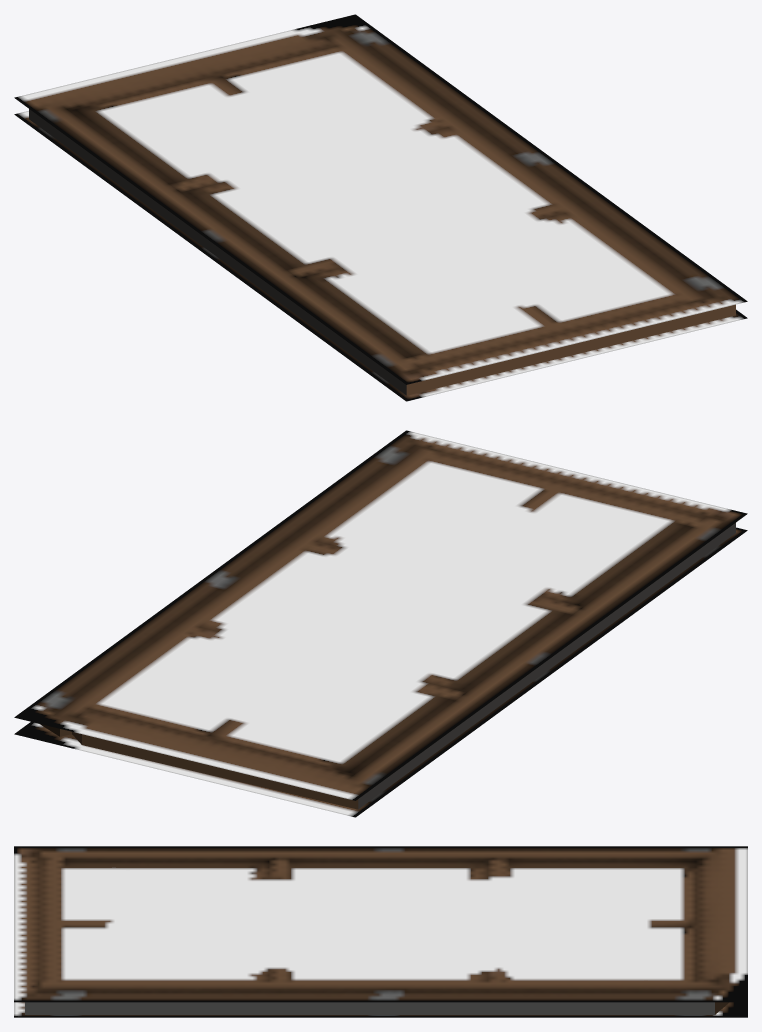
The model's file is pz_native_fixtures_windows_wood_101_frame.obj.
3 renders of one model, top to bottom at view 1: azimuth 30°, elevation 25°; view 2: azimuth 150°, elevation 25°; view 3: azimuth 270°, elevation 25°, orthographic. The views are drawn at different scales.
Visible parts, largest first — view 1: pz_native_fixtures_windows_wood_101_frame; view 2: pz_native_fixtures_windows_wood_101_frame; view 3: pz_native_fixtures_windows_wood_101_frame.
Part boxes in pixels (left/top/right/bottom): pz_native_fixtures_windows_wood_101_frame: left=14, top=14, right=747, bottom=401; pz_native_fixtures_windows_wood_101_frame: left=14, top=430, right=747, bottom=817; pz_native_fixtures_windows_wood_101_frame: left=14, top=846, right=747, bottom=1017.
Size of the model in its own units: 0.8594 by 0.04 by 1.71.
1 material, 1 textured.
